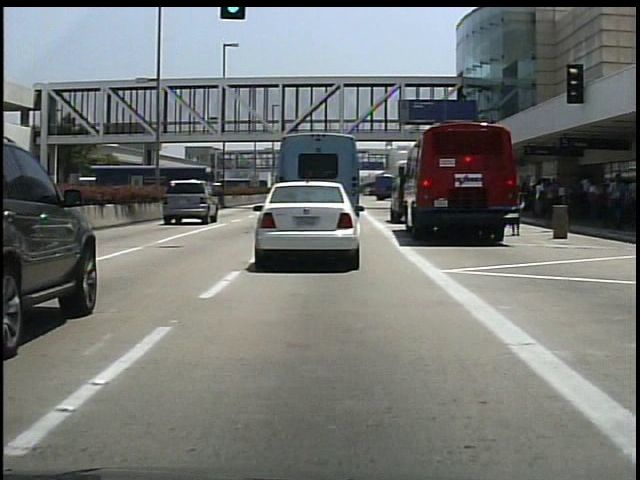person: (510, 186, 523, 236)
